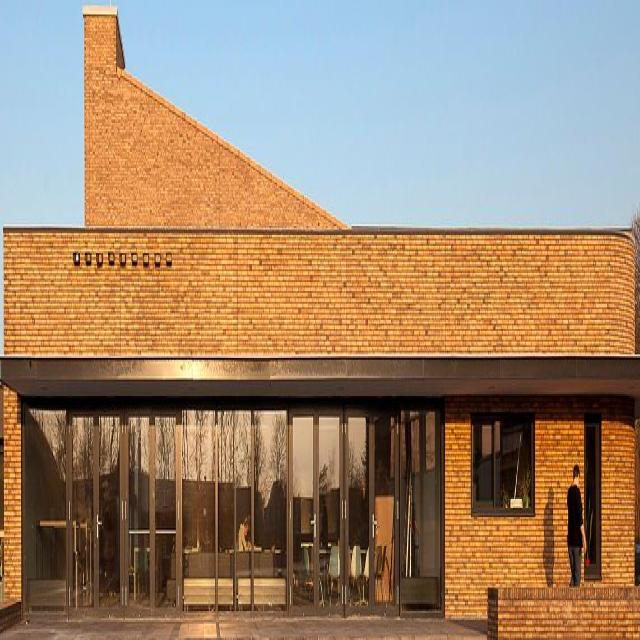door: (286, 399, 402, 621), (67, 409, 182, 623)
window: (22, 399, 444, 621), (473, 412, 533, 512), (584, 410, 602, 578)
